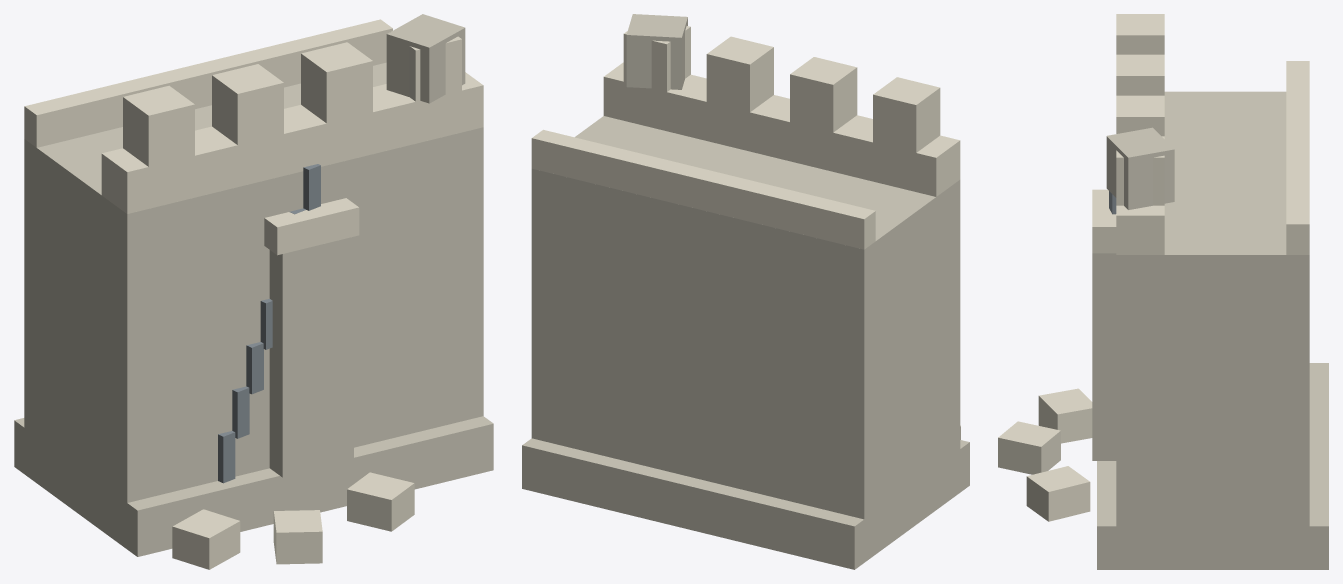
The model's file is assault-wall-cracked.glb.
The picture shows the model from 3 angles, left to right: view 1: azimuth 30°, elevation 25°; view 2: azimuth 150°, elevation 25°; view 3: azimuth 270°, elevation 25°; orthographic projection. The views are drawn at different scales.
Parts seen in each view (by area): view 1: assault-wall-cracked; view 2: assault-wall-cracked; view 3: assault-wall-cracked.
Boxes of the visible parts, x1,y1,x2,y2 form: assault-wall-cracked: (14,14,493,569); assault-wall-cracked: (522,14,969,569); assault-wall-cracked: (998,14,1328,569).
Size of the model in its own units: 4 by 4.65 by 3.42.
